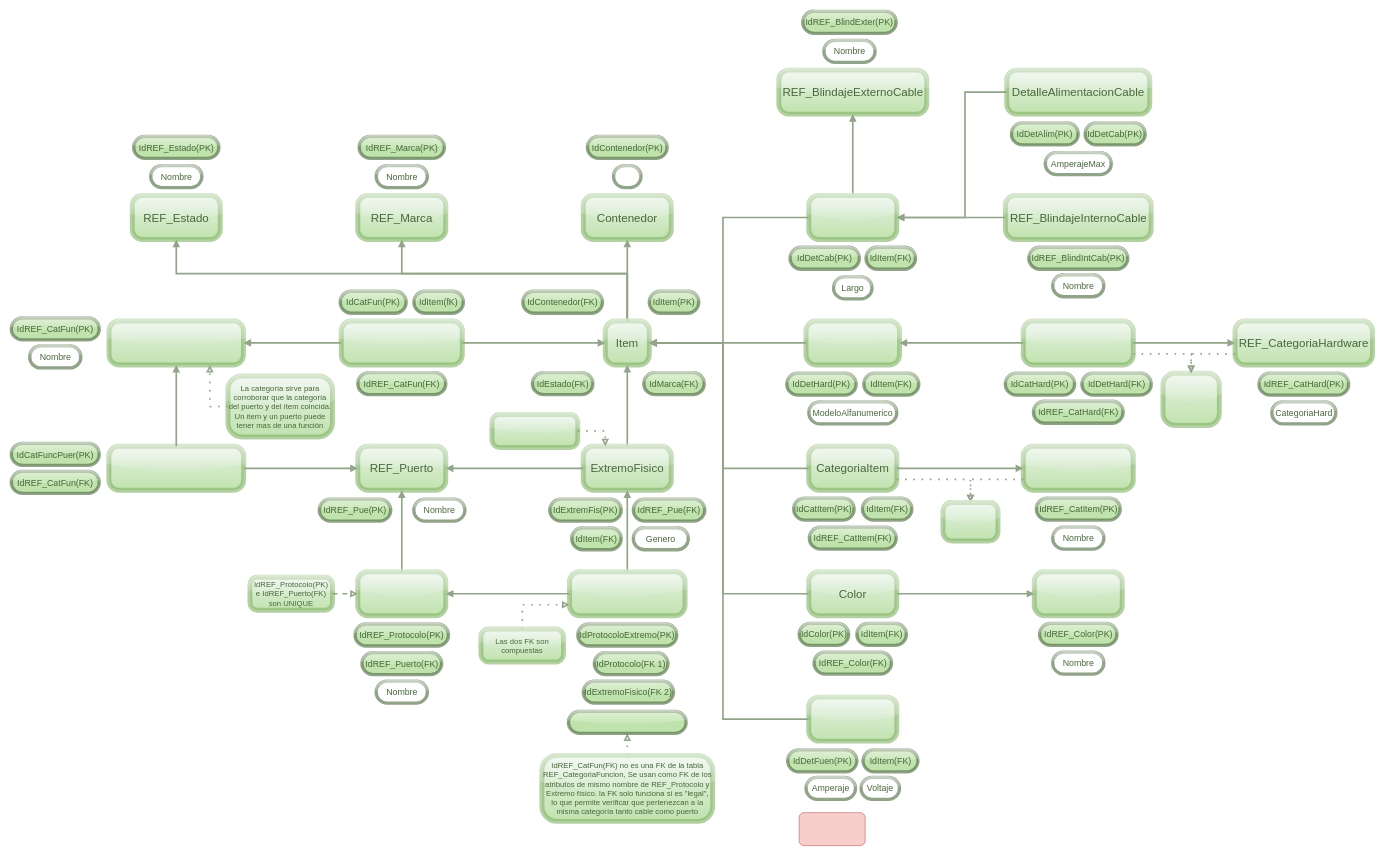
Image size: 1384x855. Some labels were removed from this diagram. Here are the shapes that lost their labels. From the top down, the centre of each, then its label:
At (627,176): "QR".
At (852,217): "DetalleCable".
At (176,342): "REF_CategoriaFuncion".
At (401,342): "CategoriaFuncionItem".
At (852,342): "DetalleHardware".
At (1078,342): "CategoriaHardware".
At (1191,399): "Se especifica que tipo de hardware es (Ej: Periférico, PC,TV)".
At (534,431): "IdExtremFis(PK) e IdREF_Puerto(FK) son UNIQUE".
At (176,468): "CategoriaFuncionPuerto".
At (1078,468): "REF_CategoriaItem".
At (970,521): "Se especifica que es el item (Ej: cable)".
At (401,593): "REF_Protocolo".
At (627,593): "ProtocoloDeExtremo".
At (1078,593): "REF_Color".
At (627,722): "IdREF_CatFun(FK 1)(FK 2)".
At (852,718): "DetalleFuente".
At (832,829): "CAMBIAR A AMPERAJE MIN".
